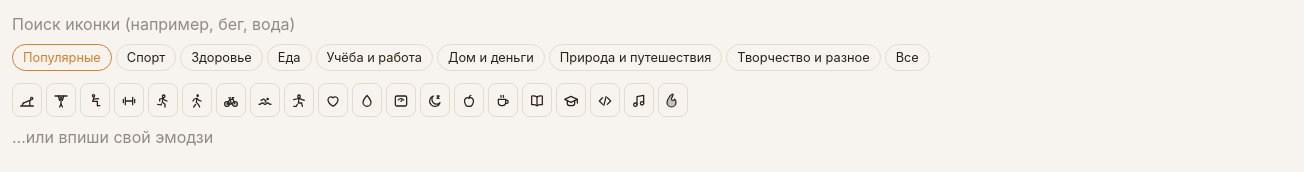
Test: IconPicker (BACKLOG 1.3) › поиск без совпадений: сообщение про свой эмодзи
Type "qwertyuiop" into the field with test id "icon-search". click: (652, 24)
box: [12,12,1292,36]
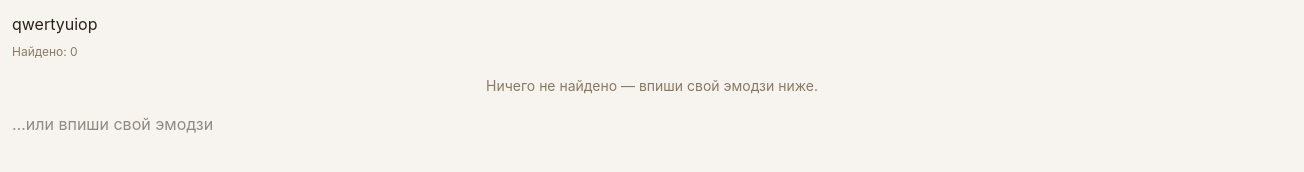
Expected: the text "Ничего не найдено" is shown, [486,77,818,94]
